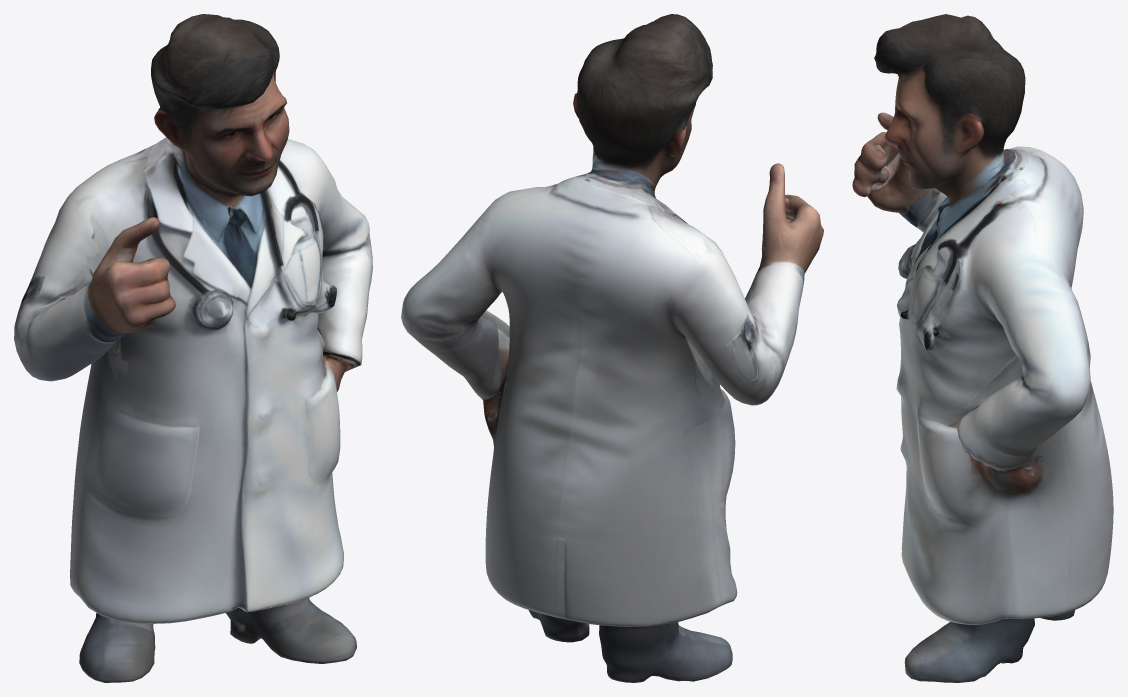
Rendered from doc_1.glb.
3 renders of one model, left to right at view 1: azimuth 30°, elevation 25°; view 2: azimuth 150°, elevation 25°; view 3: azimuth 270°, elevation 25°, orthographic. The views are drawn at different scales.
Size of the model in its own units: 1.2 by 2 by 0.7795.
Materials: 1 (1 with a texture image).
